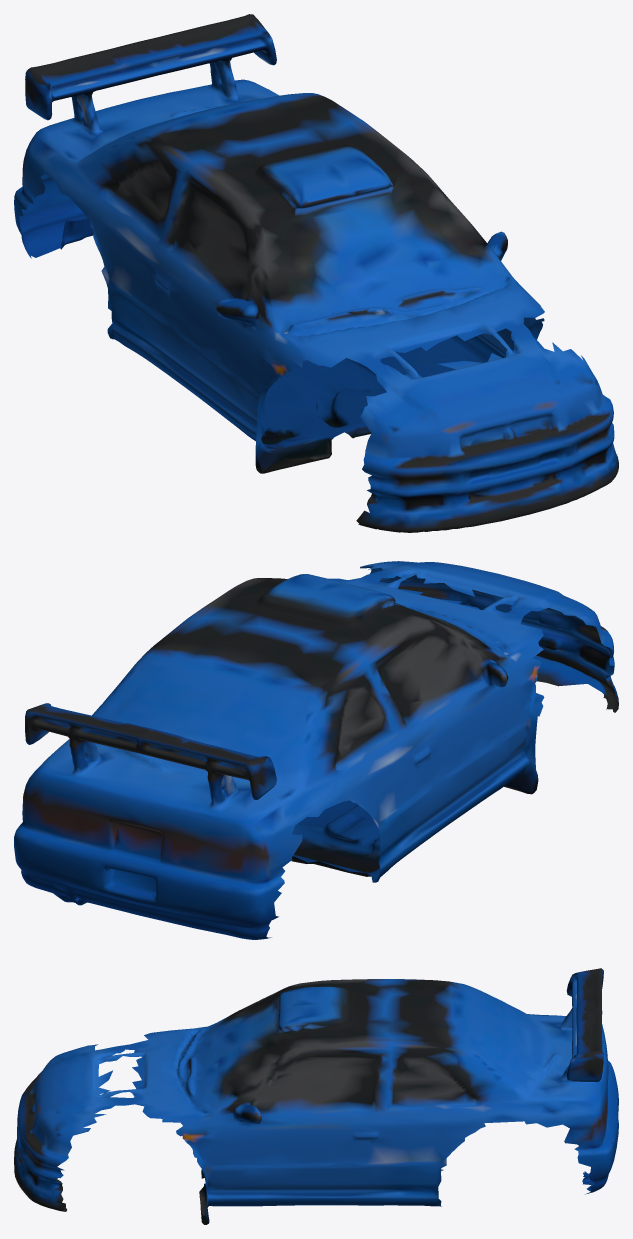
File: coupe.glb
The picture shows the model from 3 angles, top to bottom: view 1: azimuth 30°, elevation 25°; view 2: azimuth 150°, elevation 25°; view 3: azimuth 270°, elevation 25°; orthographic projection. The views are drawn at different scales.
Visible parts, largest first — view 1: geometry_0; view 2: geometry_0; view 3: geometry_0.
Part boxes in pixels (x1=…): geometry_0: x1=14, y1=14, x2=618, y2=532; geometry_0: x1=14, y1=561, x2=618, y2=939; geometry_0: x1=14, y1=968, x2=618, y2=1224.
Size of the model in its own units: 1.84 by 1.35 by 4.3.
